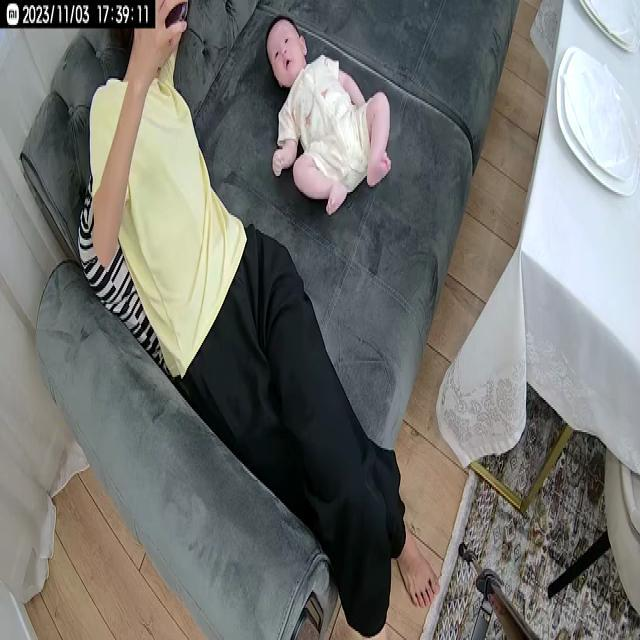baby: (262, 12, 396, 218)
